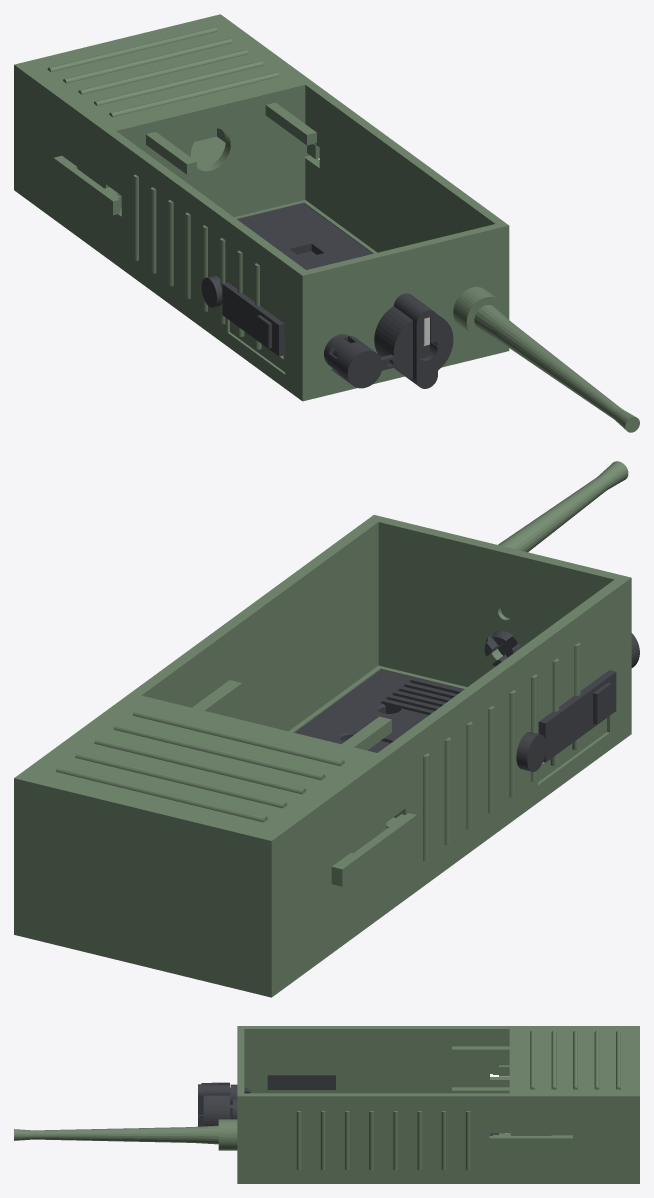
File: SDR-HH_assembled.glb
3 views of the same model, one above another, from view 1: azimuth 30°, elevation 25°; view 2: azimuth 150°, elevation 25°; view 3: azimuth 270°, elevation 25° (orthographic). The views are drawn at different scales.
Visible parts, largest first — view 1: front_shell, battery_pack, knob_body, front_panel, antenna, ptt_bar, cap_gps; view 2: front_shell, battery_pack, front_panel, ptt_bar, antenna, side_button; view 3: front_shell, battery_pack, antenna, knob_body, ptt_bar.
Boxes of the visible parts, left/top/right/bottom form: front_shell: left=102, top=79, right=509, bottom=401; battery_pack: left=14, top=14, right=319, bottom=254; knob_body: left=374, top=293, right=453, bottom=388; front_panel: left=237, top=203, right=372, bottom=269; antenna: left=474, top=305, right=639, bottom=432; ptt_bar: left=222, top=282, right=285, bottom=356; cap_gps: left=327, top=335, right=394, bottom=388; front_shell: left=124, top=515, right=631, bottom=916; battery_pack: left=14, top=697, right=416, bottom=997; front_panel: left=294, top=669, right=463, bottom=817; ptt_bar: left=538, top=670, right=616, bottom=762; antenna: left=498, top=461, right=628, bottom=552; side_button: left=516, top=732, right=546, bottom=771; front_shell: left=218, top=1026, right=516, bottom=1183; battery_pack: left=489, top=1026, right=639, bottom=1183; antenna: left=14, top=1125, right=218, bottom=1144; knob_body: left=198, top=1084, right=230, bottom=1126; ptt_bar: left=267, top=1075, right=335, bottom=1089.
Bounding box in the file's own units: 67.3 × 39.7 × 233.
